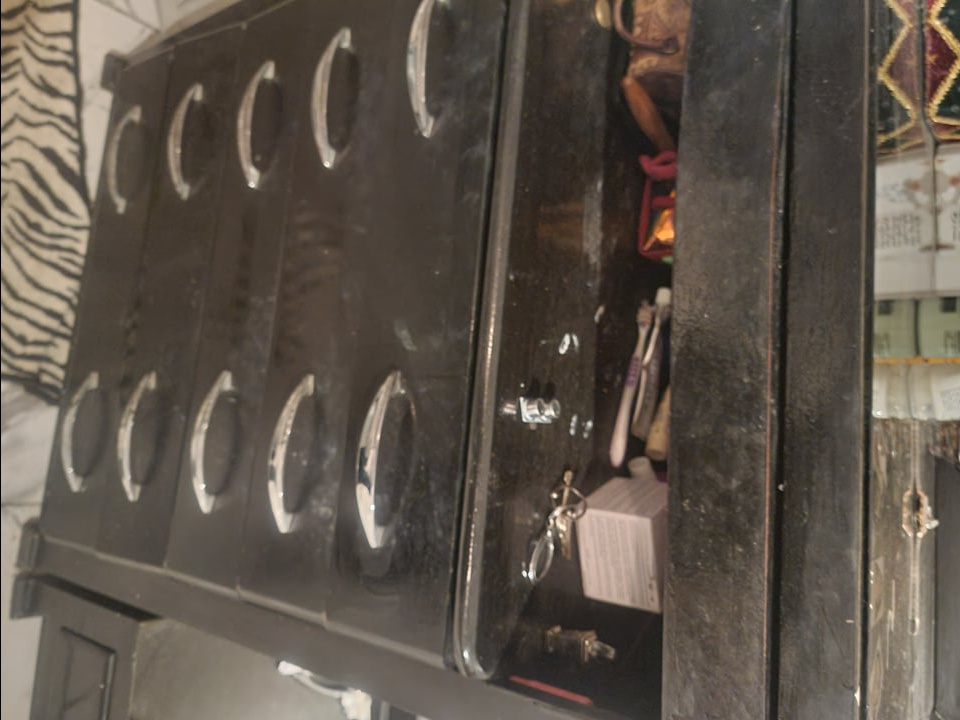SENSOR: (517, 395, 562, 426)
